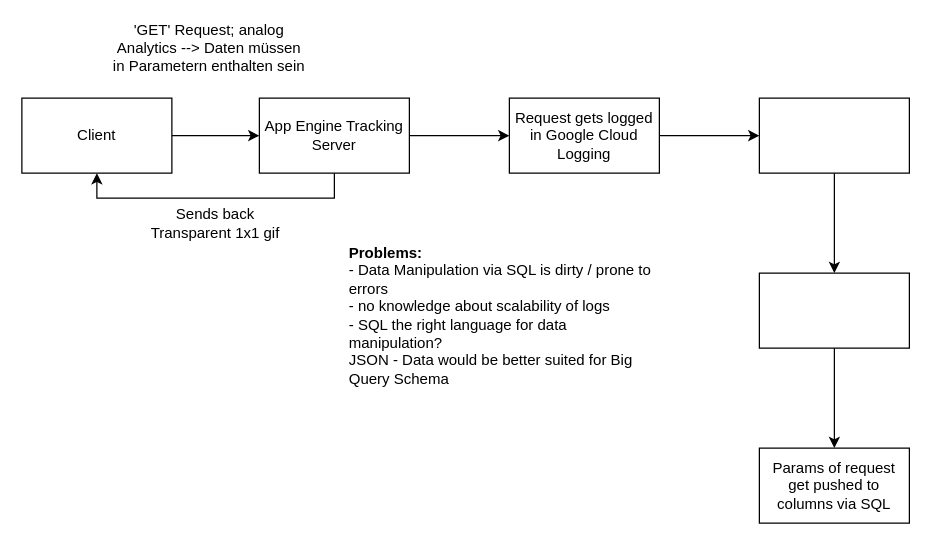
This 931x545 diagram has some shape labels left out. The shapes that lost their labels are listed below. From the top down, each one's centre as x and y in pixels, then its label:
At point (833, 135): "Log Sink groups all requests to tracking server".
At point (833, 310): "Log Sink is stored in a Big Query table".
